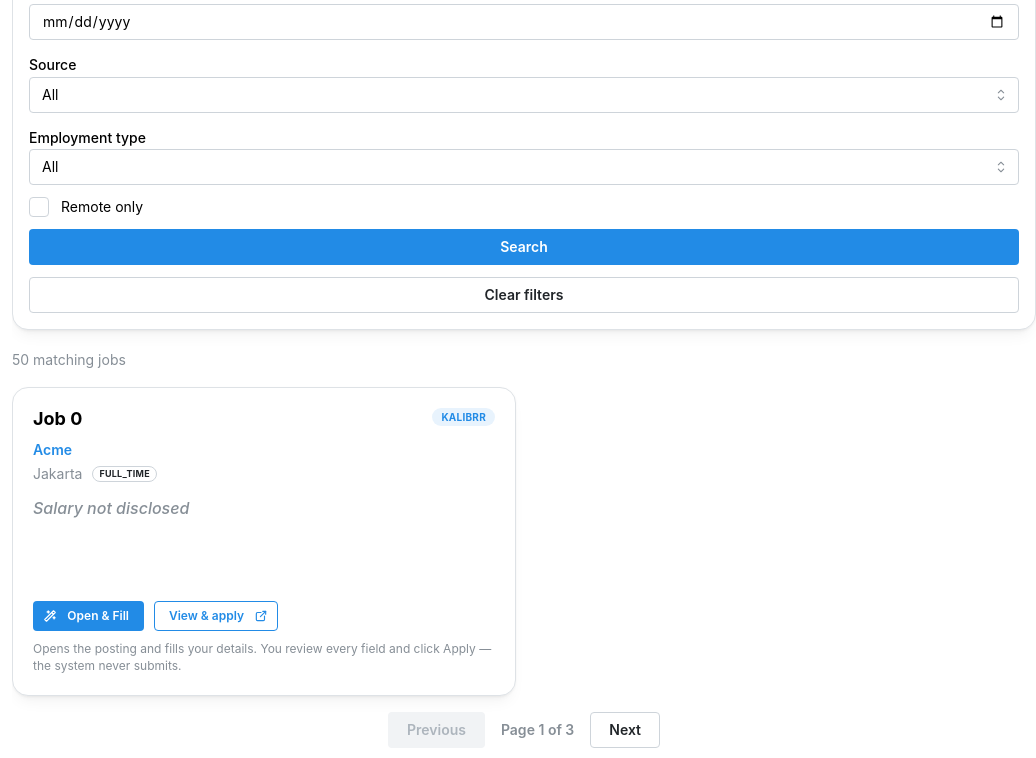
it: JobFeed pagination › shows a pager and advances the offset on Next
The width and height of the screenshot is (1036, 758).
(page scrolled)
Check: the text "Page 1 of 3" is shown, box [501,720,574,740]
Check: the text "Job 0" is shown, box [33,408,82,429]
Click the button "Next". click: (625, 730)
box: [590,712,660,748]
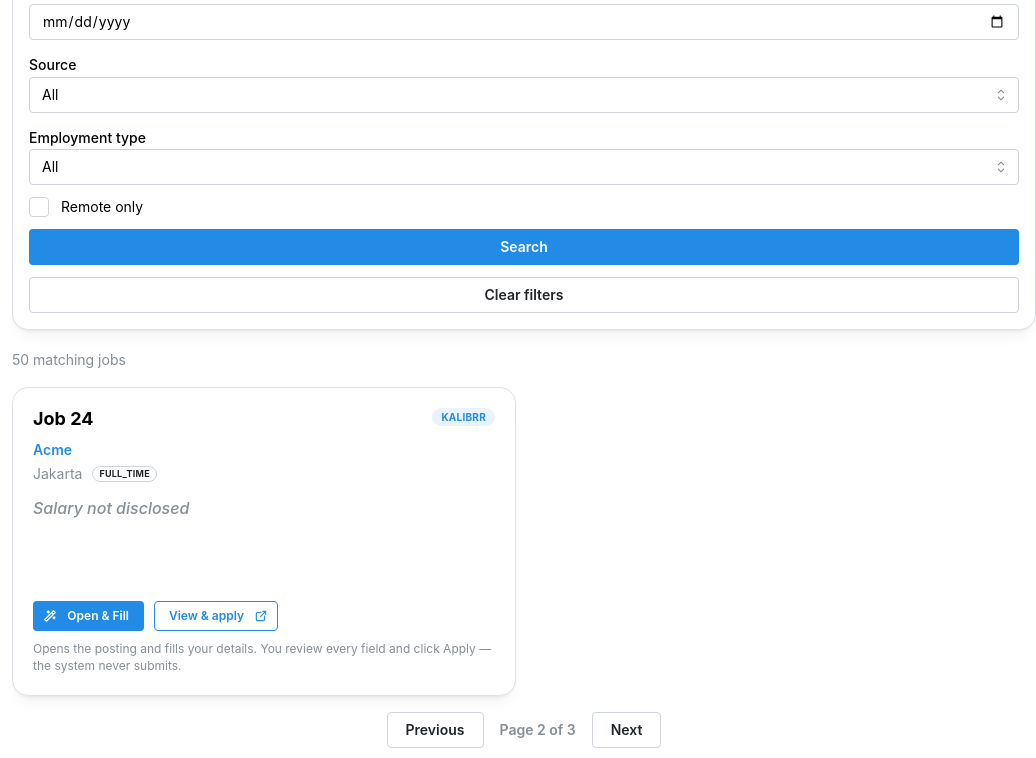
Check: the text "Page 2 of 3" is shown, box [500,720,576,740]
